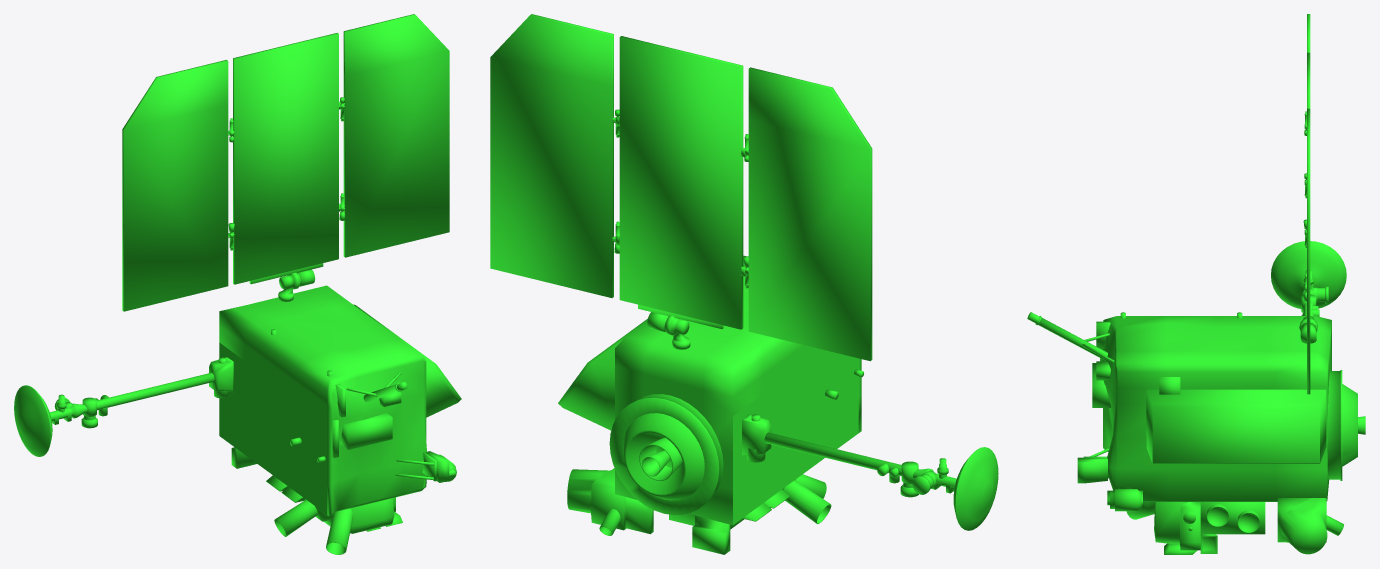
The model's file is LRO.obj.
The picture shows the model from 3 angles, left to right: view 1: azimuth 30°, elevation 25°; view 2: azimuth 150°, elevation 25°; view 3: azimuth 270°, elevation 25°; orthographic projection. The views are drawn at different scales.
Visible parts, largest first — view 1: LRO; view 2: LRO; view 3: LRO.
Part boxes in pixels (x1,y1,x2,y2): LRO: [14, 14, 461, 554]; LRO: [490, 14, 998, 554]; LRO: [1027, 14, 1365, 554].
Bounding box in the file's own units: 1 × 0.9923 × 0.6674.
